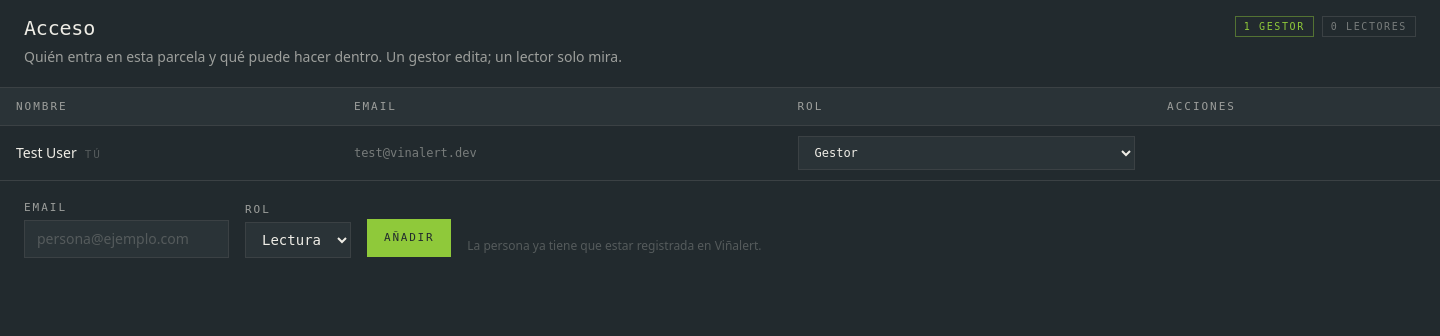
el guard de "sin gestor" del backend se ve y el select no cambia hasta confirmarse
expect the text "test@vinalert.dev" is shown: met, box 338,126 -> 782,180
Step 1. Select "Lectura" in the dropdown named "Rol de Test User" → (966, 153), box 798,136 -> 1135,170
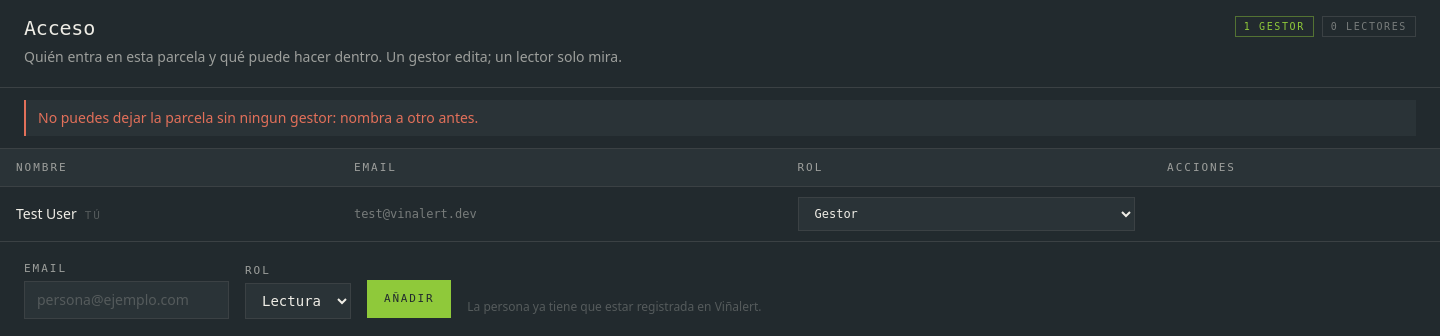
expect the text "No puedes dejar la parcela sin ningun gestor: nombra a otro antes." is shown: met, box 24,100 -> 1416,136
